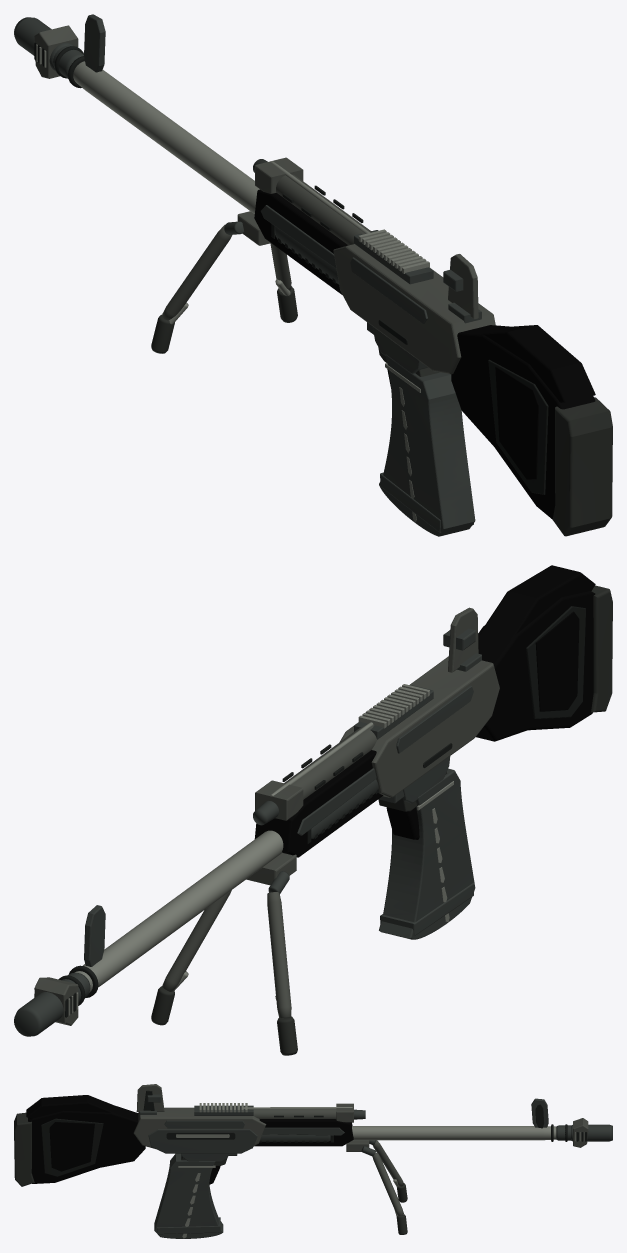
Rendered from rpk.glb.
3 views of the same model, one above another, from view 1: azimuth 30°, elevation 25°; view 2: azimuth 150°, elevation 25°; view 3: azimuth 270°, elevation 25° (orthographic). The views are drawn at different scales.
Visible parts, largest first — view 1: Stock / Oiled beech furniture, Magazine / Parkerized steel, Receiver / Stamped receiver, Stock / Ribbed polymer grip, Barrel / Worn steel edges, GasSystem / Stamped receiver, Bipod / Stamped receiver, Optic / Parkerized steel, Handguard / Oiled beech furniture, Receiver / Parkerized steel, Stock / Recessed parts, Optic / Worn steel edges (+6 smaller); view 2: Stock / Oiled beech furniture, Magazine / Parkerized steel, Receiver / Stamped receiver, Barrel / Worn steel edges, Bipod / Stamped receiver, Handguard / Oiled beech furniture, GasSystem / Stamped receiver, Stock / Ribbed polymer grip, Optic / Parkerized steel, Receiver / Parkerized steel, Stock / Recessed parts, Muzzle / Parkerized steel (+7 smaller); view 3: Stock / Oiled beech furniture, Magazine / Parkerized steel, Receiver / Parkerized steel, Barrel / Worn steel edges, Receiver / Stamped receiver, Handguard / Oiled beech furniture, Stock / Ribbed polymer grip, GasSystem / Stamped receiver, Bipod / Stamped receiver, Stock / Recessed parts, Optic / Parkerized steel, Barrel / Parkerized steel (+9 smaller).
Boxes of the visible parts, x1,y1,x2,y2 form: Stock / Oiled beech furniture: [451, 325, 595, 519]; Magazine / Parkerized steel: [379, 354, 475, 536]; Receiver / Stamped receiver: [333, 244, 495, 374]; Stock / Ribbed polymer grip: [552, 397, 612, 536]; Barrel / Worn steel edges: [70, 61, 259, 213]; GasSystem / Stamped receiver: [255, 157, 370, 245]; Bipod / Stamped receiver: [162, 211, 291, 320]; Optic / Parkerized steel: [84, 14, 481, 323]; Handguard / Oiled beech furniture: [254, 189, 348, 294]; Receiver / Parkerized steel: [350, 257, 427, 373]; Stock / Recessed parts: [488, 359, 548, 494]; Optic / Worn steel edges: [358, 229, 429, 273]; Stock / Oiled beech furniture: [476, 565, 595, 741]; Magazine / Parkerized steel: [379, 768, 475, 939]; Receiver / Stamped receiver: [339, 656, 499, 797]; Barrel / Worn steel edges: [75, 830, 283, 992]; Bipod / Stamped receiver: [162, 853, 296, 1018]; Handguard / Oiled beech furniture: [254, 750, 383, 857]; GasSystem / Stamped receiver: [255, 724, 376, 820]; Stock / Ribbed polymer grip: [591, 585, 612, 712]; Optic / Parkerized steel: [84, 628, 481, 966]; Receiver / Parkerized steel: [379, 685, 473, 803]; Stock / Recessed parts: [526, 606, 585, 718]; Muzzle / Parkerized steel: [14, 992, 63, 1036]; Stock / Oiled beech furniture: [26, 1095, 145, 1183]; Magazine / Parkerized steel: [154, 1153, 223, 1238]; Receiver / Parkerized steel: [148, 1120, 257, 1162]; Barrel / Worn steel edges: [352, 1126, 556, 1140]; Receiver / Stamped receiver: [133, 1107, 266, 1148]; Handguard / Oiled beech furniture: [254, 1119, 353, 1146]; Stock / Ribbed polymer grip: [14, 1112, 34, 1186]; GasSystem / Stamped receiver: [248, 1103, 353, 1122]; Bipod / Stamped receiver: [346, 1140, 403, 1215]; Stock / Recessed parts: [41, 1118, 103, 1176]; Optic / Parkerized steel: [140, 1094, 548, 1127]; Barrel / Parkerized steel: [260, 1125, 570, 1141].
Size of the model in its own units: 0.2081 by 0.3922 by 1.41.
Materials: 6 (1 with a texture image).
